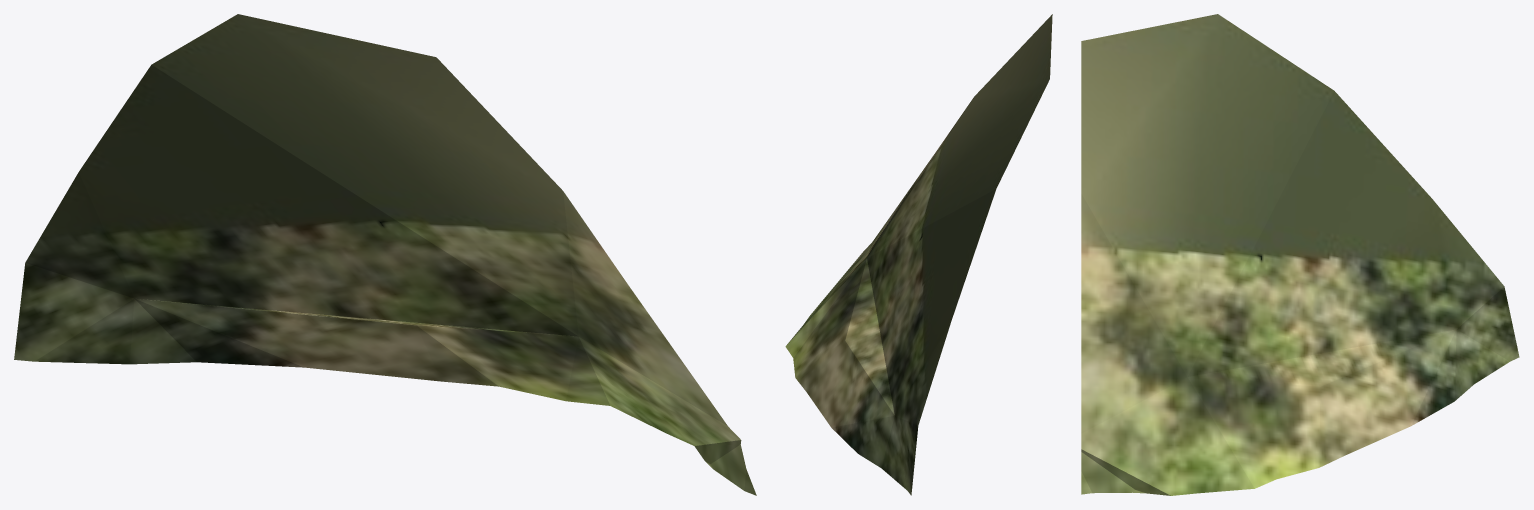
The picture shows the model from 3 angles, left to right: view 1: azimuth 30°, elevation 25°; view 2: azimuth 150°, elevation 25°; view 3: azimuth 270°, elevation 25°; orthographic projection. The views are drawn at different scales.
Bounding box in the file's own units: 9.86 × 11.54 × 13.16.
1 material, 1 textured.
